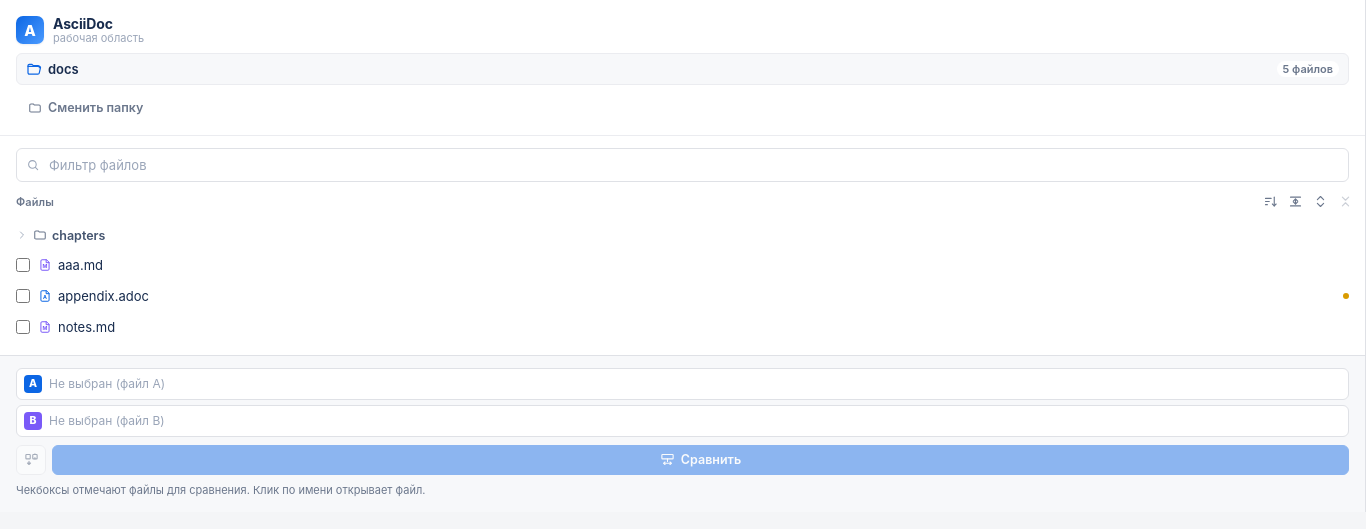
Test case: WorkspaceSidebar › opens a file on name click and toggles a checkbox without opening it
The width and height of the screenshot is (1366, 529).
Later steps or results of the test are not shown.
Click the checkbox named "Отметить «aaa.md» для сравнения: aaa.md".
click(23, 265)  # box left=16, top=258, right=30, bottom=272
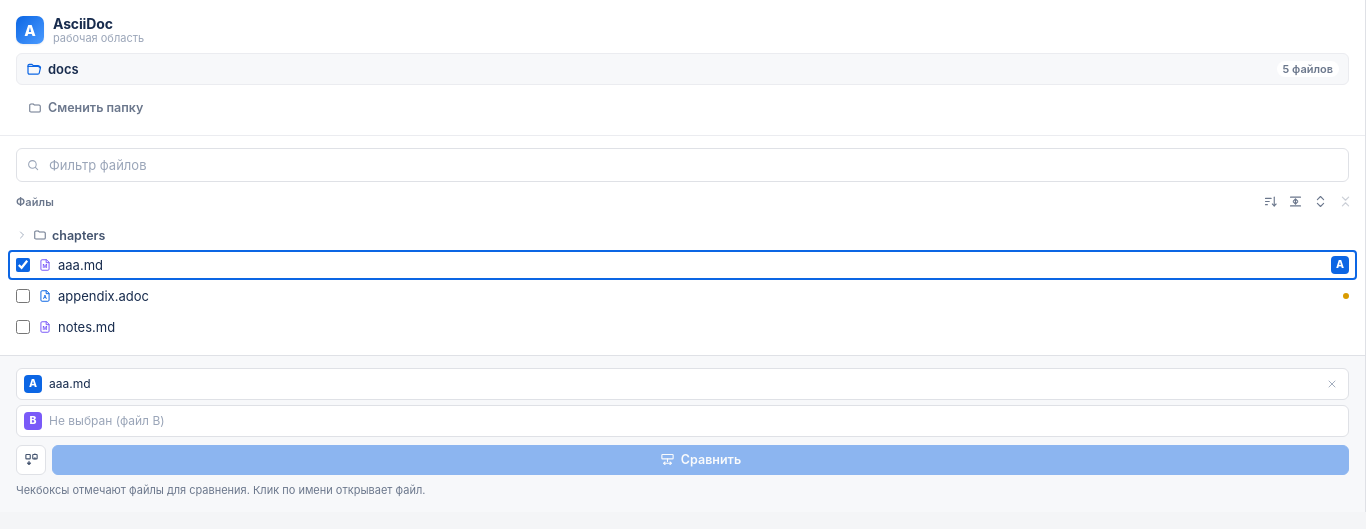
Expected: the button with class "ws-compare__run" is disabled, left=52, top=445, right=1349, bottom=475
Expected: the text with class "ws-file__slot--left" reads "A", left=1336, top=258, right=1344, bottom=271
